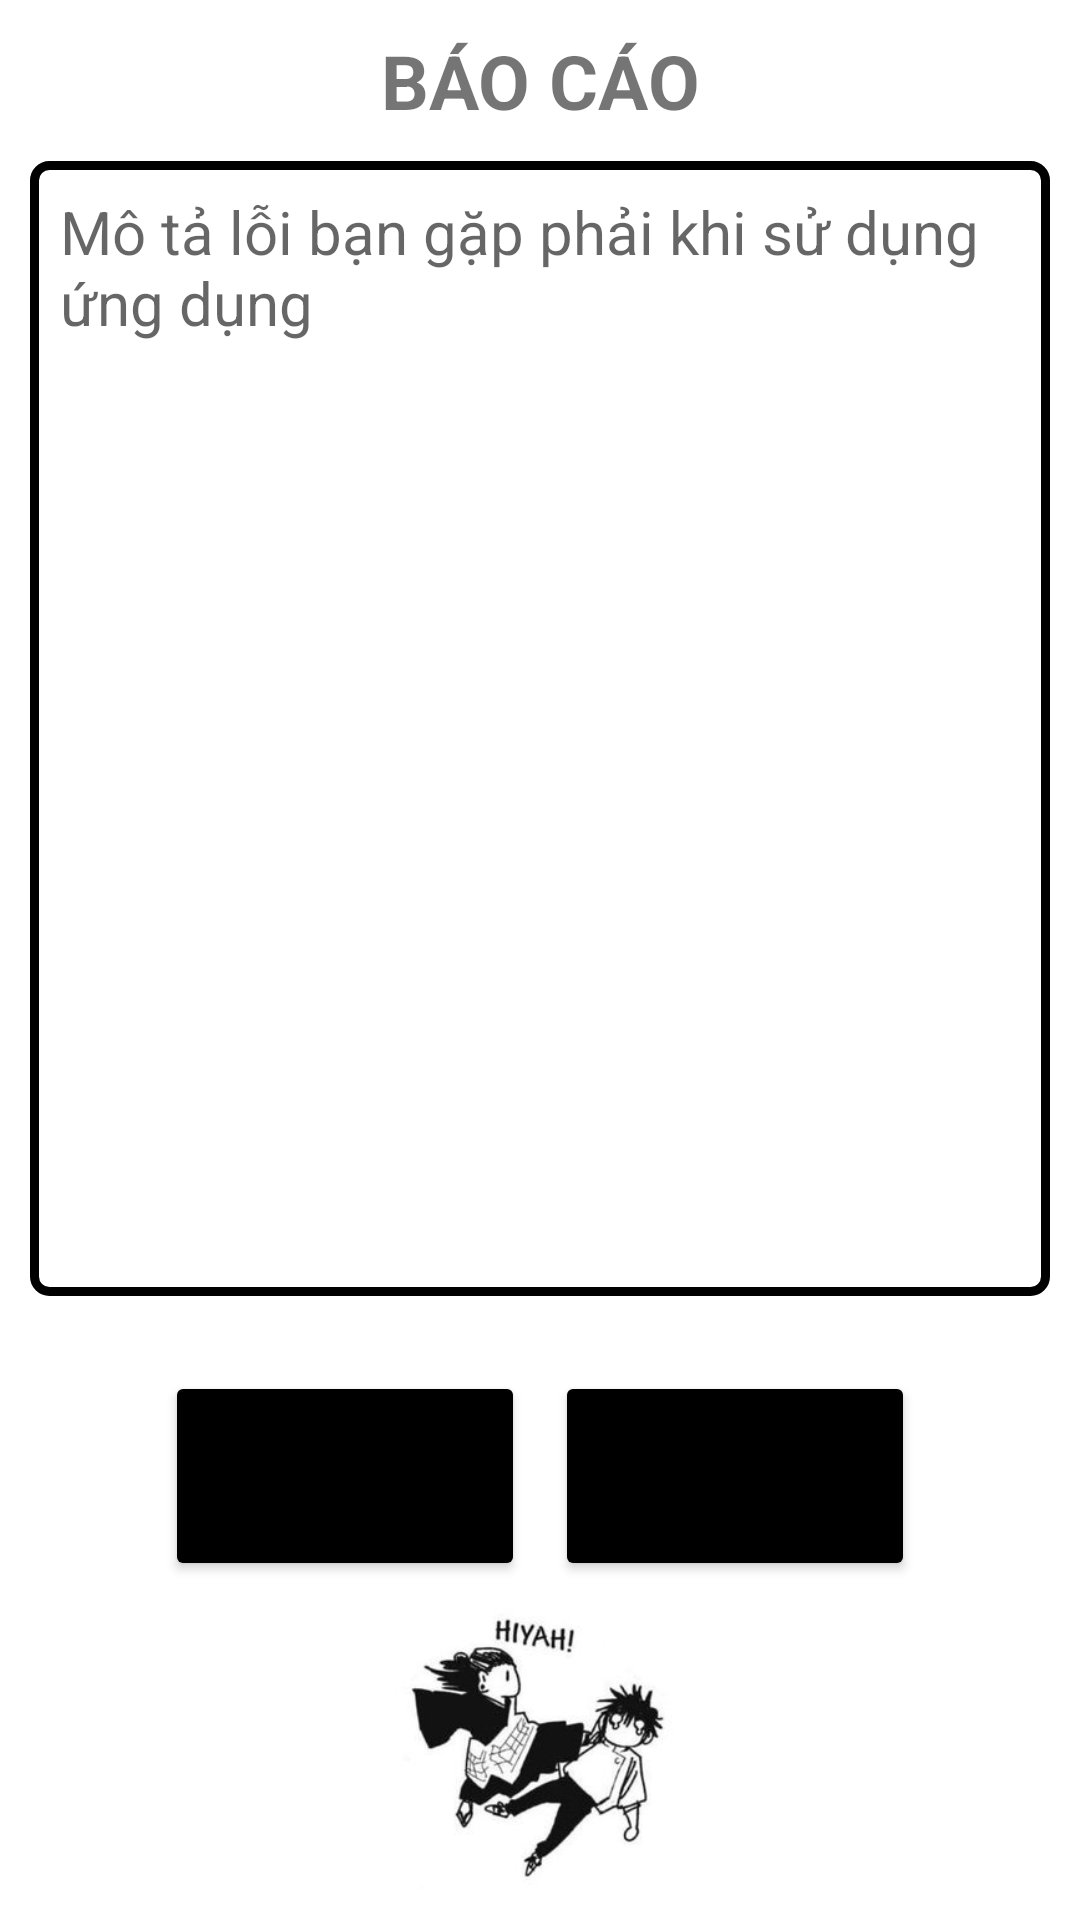

Icons on this 1080 × 1920 Android screen, each with the point to tap as (x=x, y=y):
funny: (x=537, y=1748)
